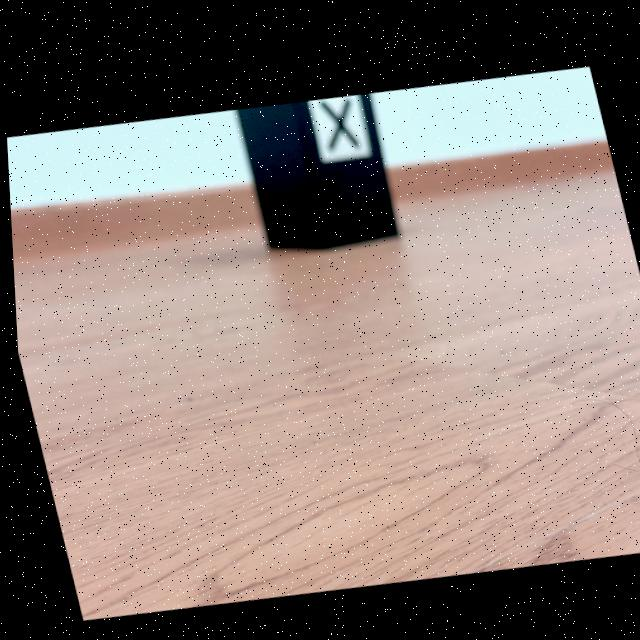X: (320, 96, 357, 144)
